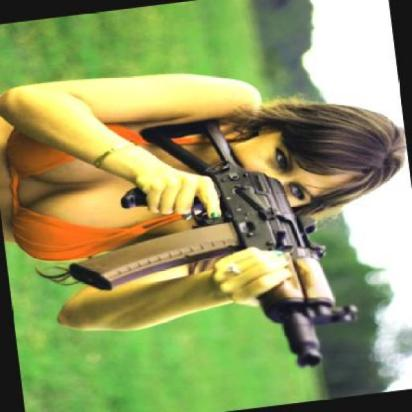Gun: (46, 100, 346, 394)
